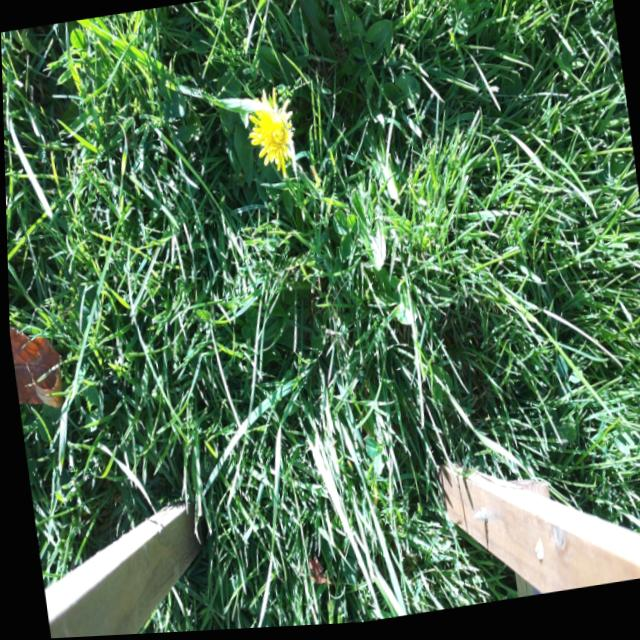base: (295, 114, 315, 148)
